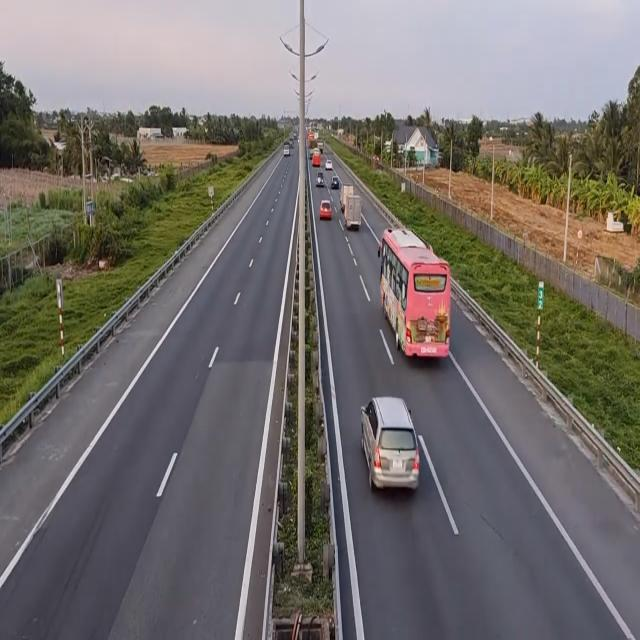bus: (380, 225, 456, 361)
car: (363, 396, 428, 498), (319, 199, 333, 222), (316, 170, 326, 188), (330, 173, 340, 189)
truck: (345, 191, 363, 232), (341, 184, 355, 208)
